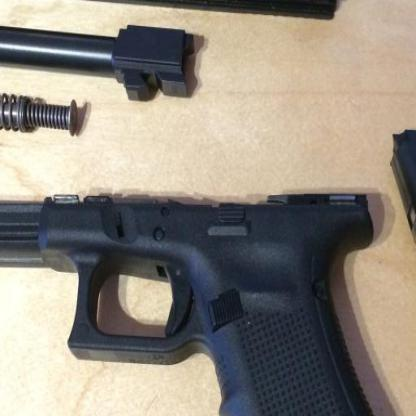gun: (0, 184, 415, 415), (0, 196, 415, 415)
